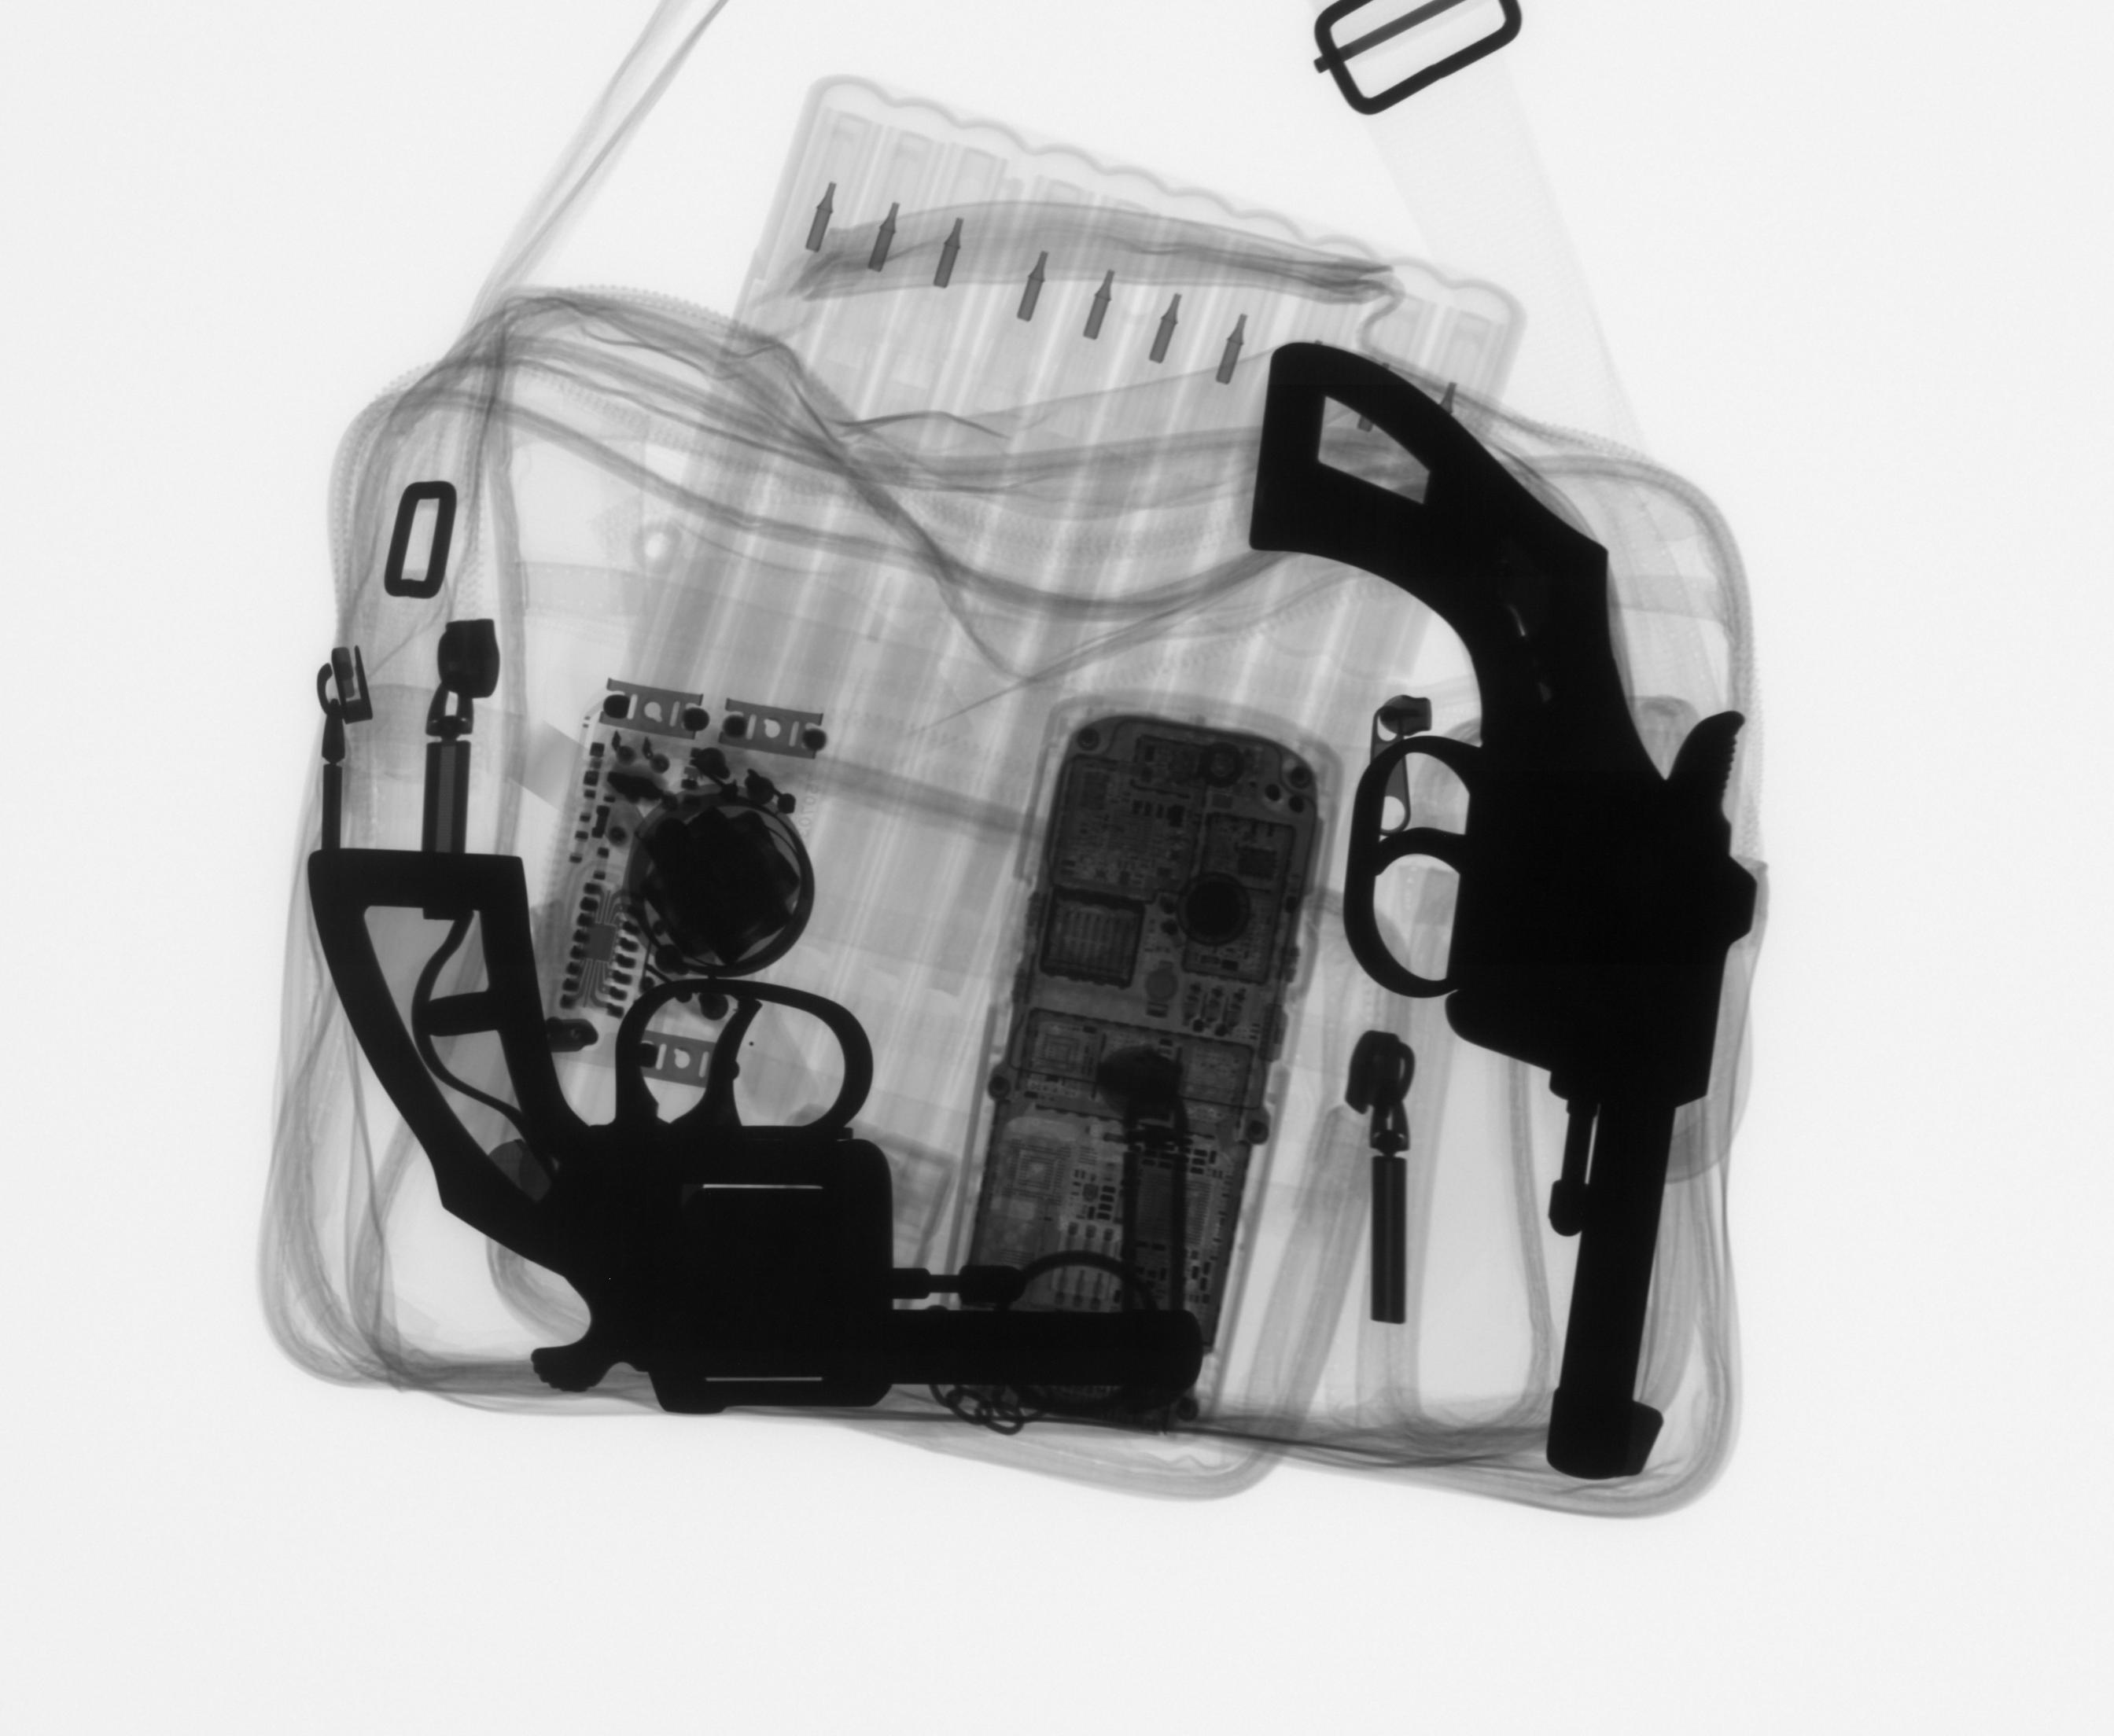Handgun: (1241, 335, 1774, 1486), (297, 842, 1213, 1441)
